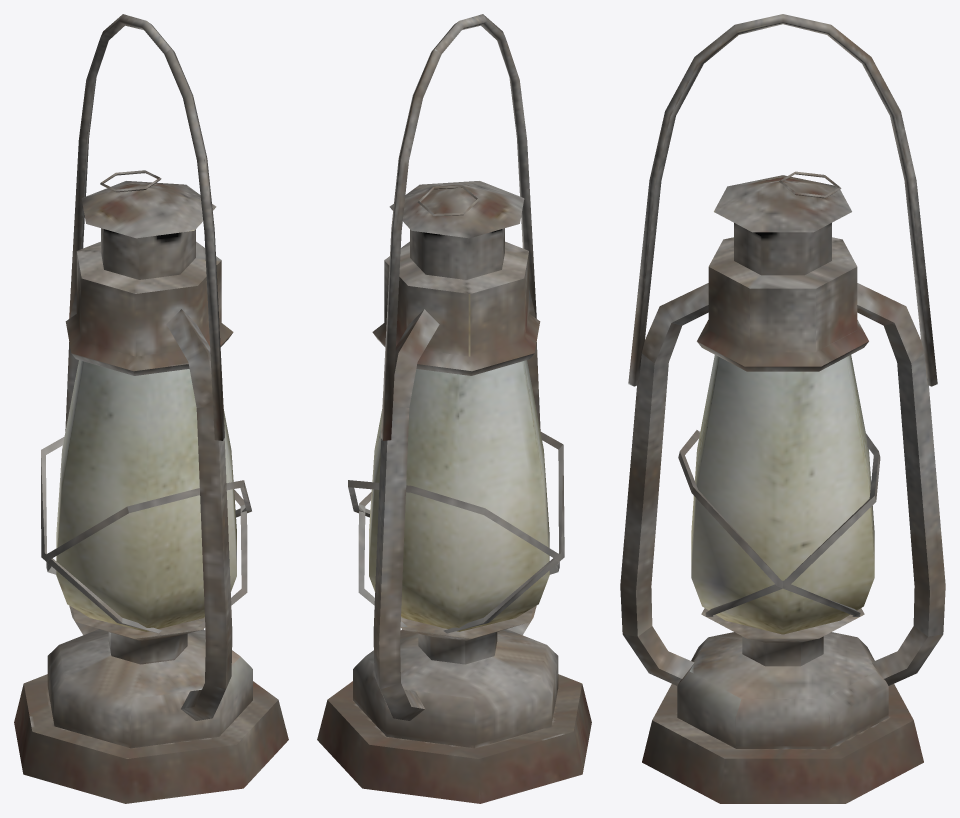
File: lantern_off.glb
3 renders of one model, left to right at view 1: azimuth 30°, elevation 25°; view 2: azimuth 150°, elevation 25°; view 3: azimuth 270°, elevation 25°, orthographic.
Parts seen in each view (by area): view 1: Handle_farol_0; view 2: Handle_farol_0; view 3: Handle_farol_0.
Boxes of the visible parts, box(x1,y1,x2,y2) form: Handle_farol_0: box(14, 14, 288, 803); Handle_farol_0: box(317, 14, 591, 803); Handle_farol_0: box(620, 14, 945, 803).
Size of the model in its own units: 0.262 by 0.7718 by 0.3098.
1 material, 1 textured.
